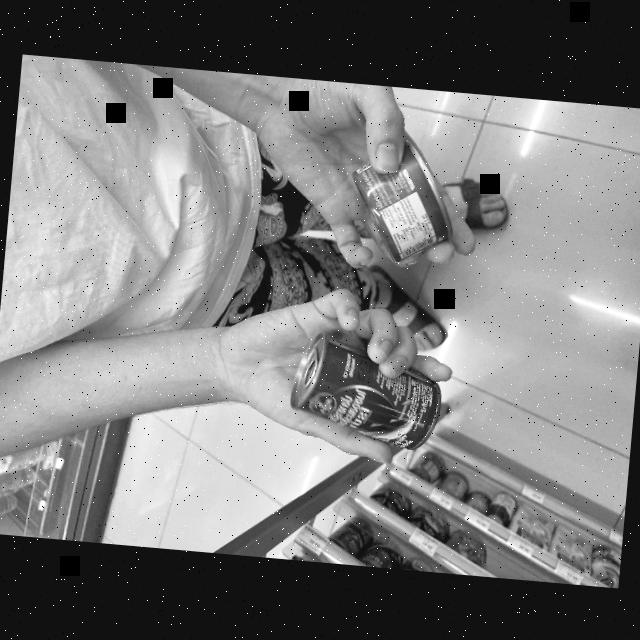can: (273, 318, 447, 466), (340, 132, 472, 266)
